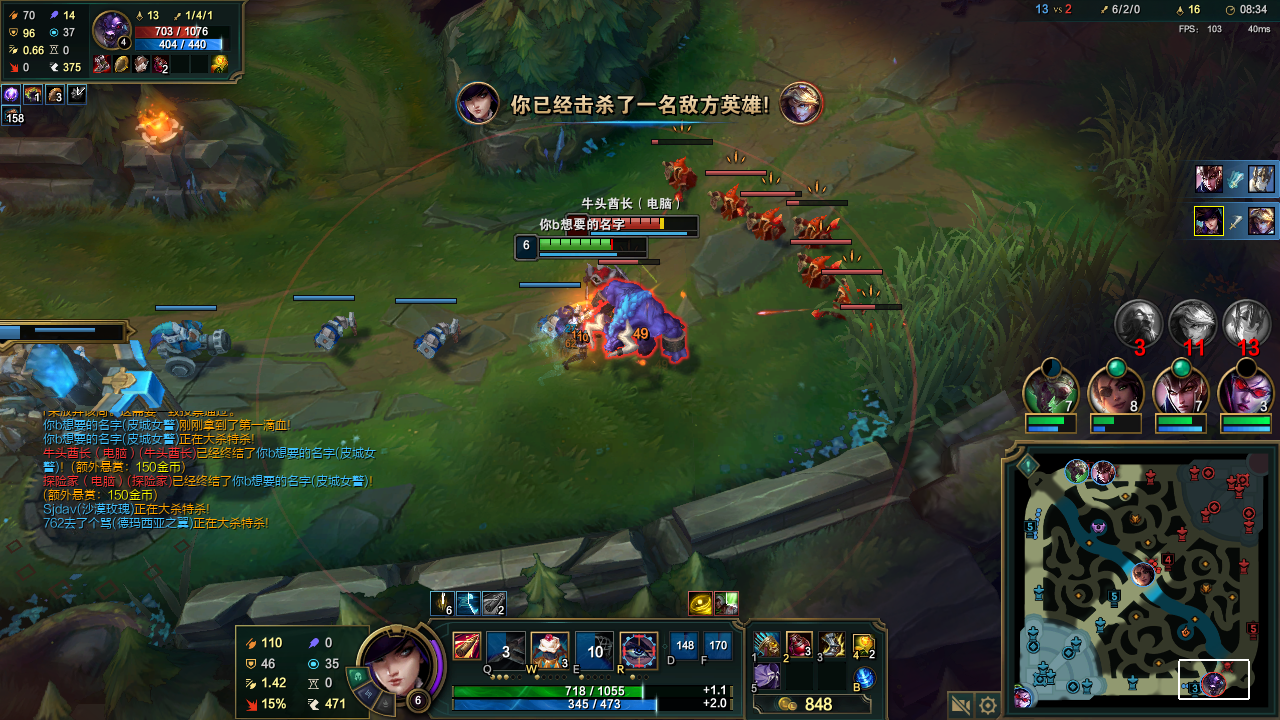DFXB: (711, 187, 754, 225), (664, 156, 703, 196), (792, 214, 833, 246), (752, 210, 789, 241), (808, 257, 838, 288), (833, 286, 867, 309), (859, 315, 883, 338)
DFYX: (587, 217, 670, 231), (640, 220, 652, 237)
WFXB: (155, 319, 222, 367), (410, 314, 466, 358), (315, 309, 359, 348)
